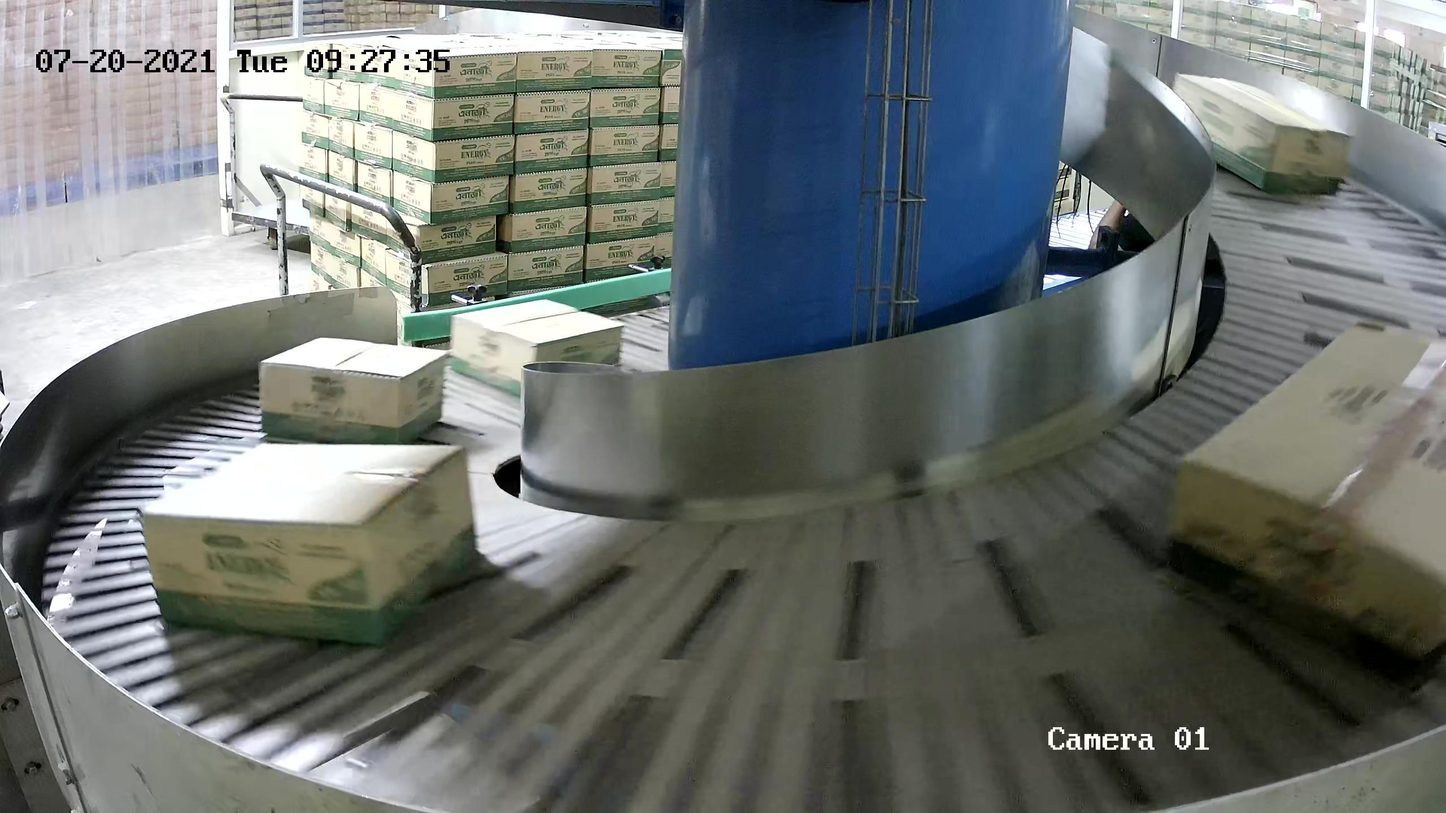Box: (1165, 322, 1446, 691), (140, 443, 478, 649), (1166, 72, 1355, 196), (259, 336, 448, 452), (451, 298, 624, 405)
